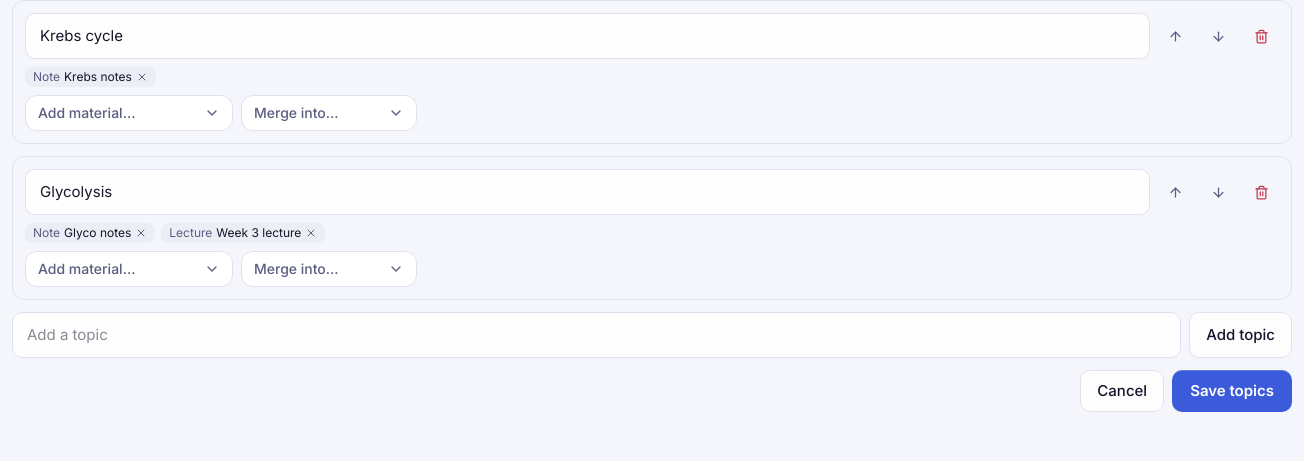
it: TopicEditor › does not save a duplicate or empty name, and says why
Replace the text in the field named "Topic 2 name" with " krebs cycle " at (588, 192), box [25,169,1150,215]
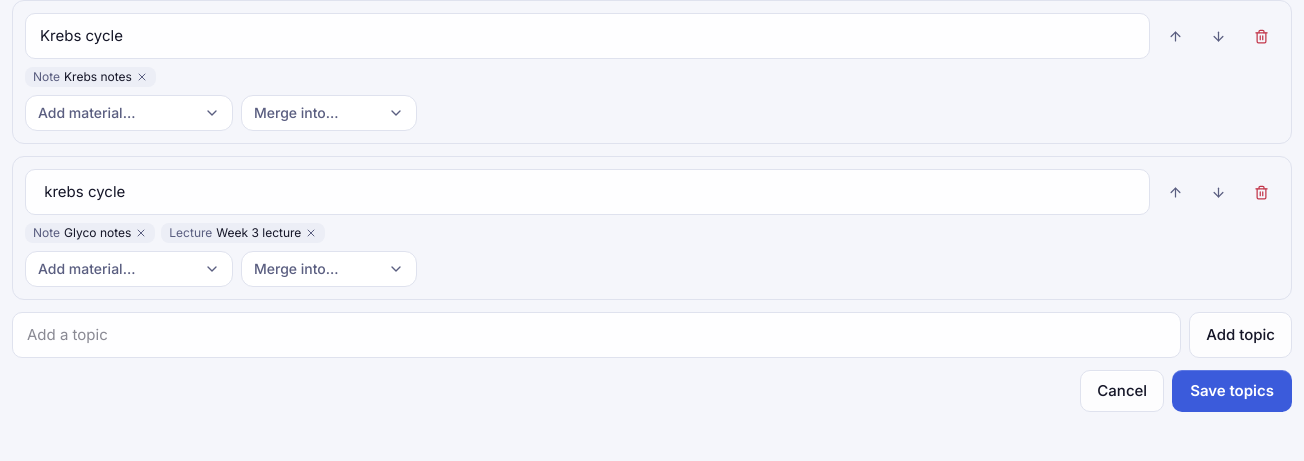
Click the button "Save topics" at (1232, 391), box [1172,370,1292,412]
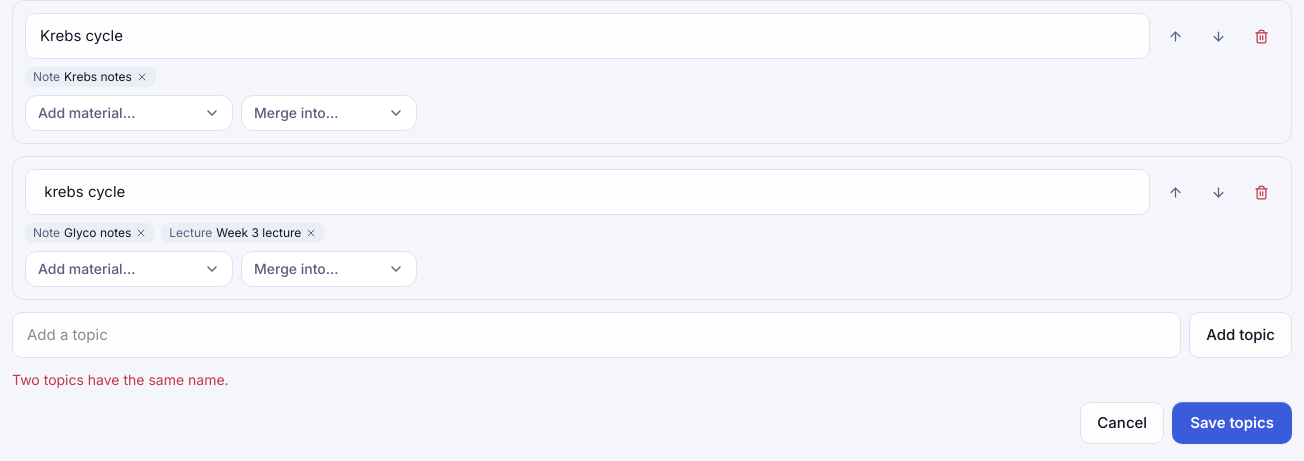
Result: the message reads "Two topics have the same name." at [12,371,229,388]
Clear the field named "Topic 2 name" at (588, 192), box [25,169,1150,215]
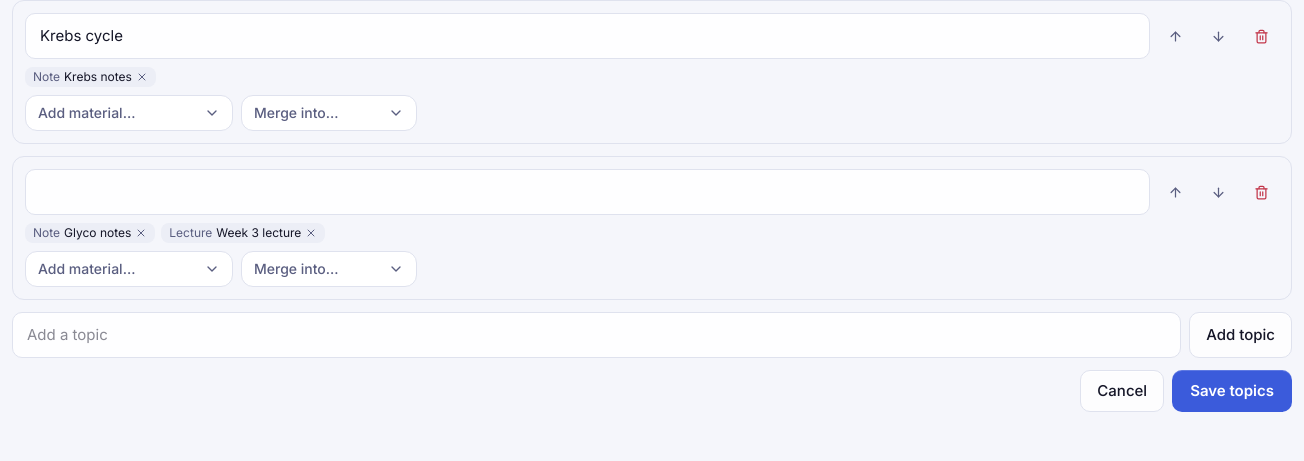
Click the button "Save topics" at (1232, 391), box [1172,370,1292,412]
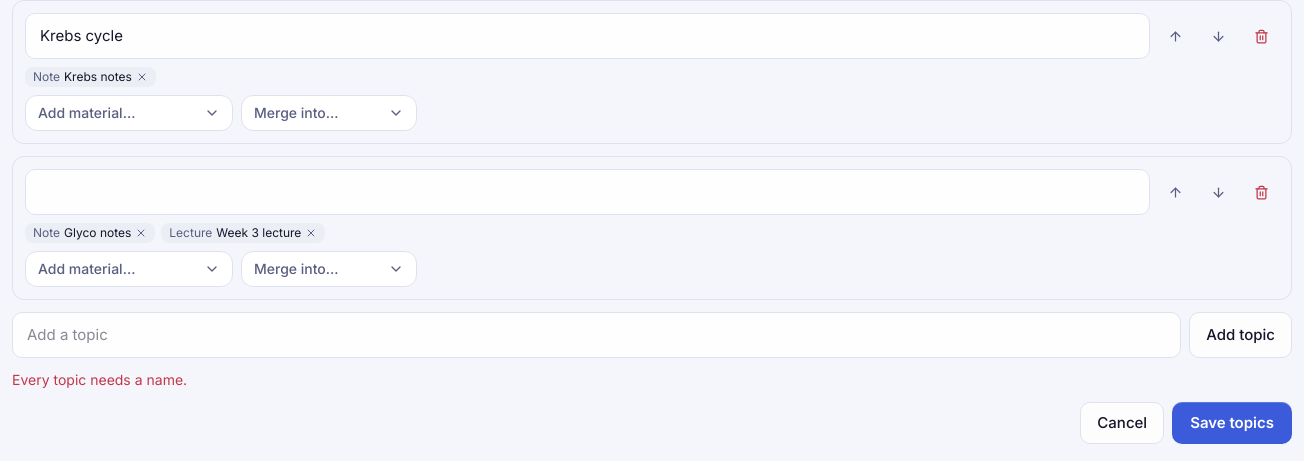
Result: the message reads "Every topic needs a name." at [12,371,187,388]
